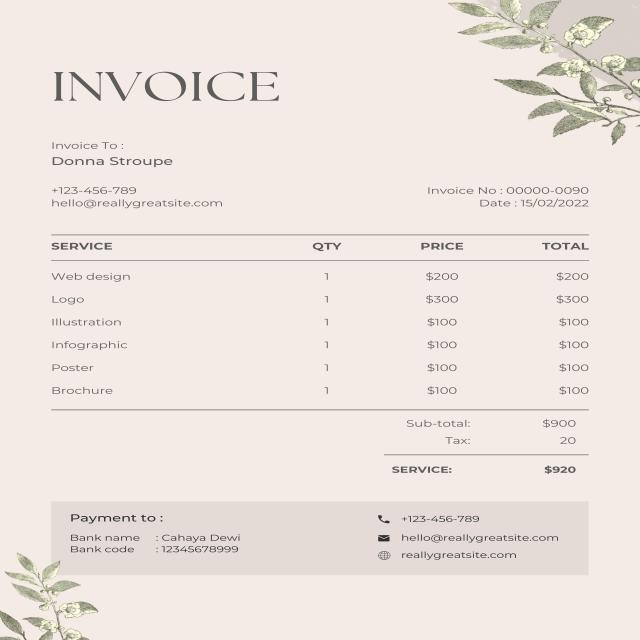paragraph: (383, 415, 589, 479), (45, 67, 284, 108), (66, 509, 245, 562), (46, 183, 233, 212), (422, 181, 599, 208), (47, 141, 179, 171)
table: (42, 230, 602, 408)
